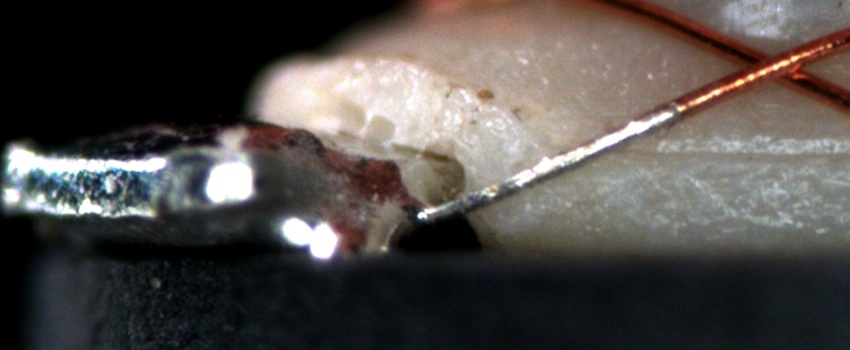CL: (716, 32, 833, 92)
DL: (618, 124, 850, 188)
TS: (416, 105, 680, 224)
